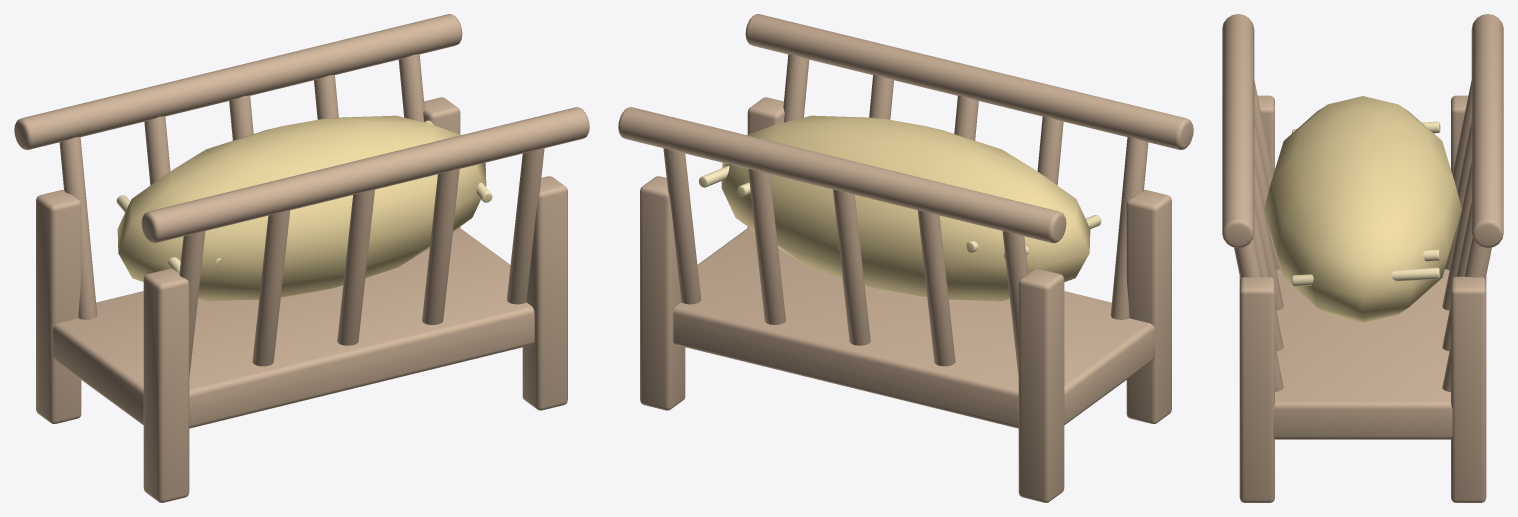
File: hay-full.glb
3 views of the same model, side by side, from view 1: azimuth 30°, elevation 25°; view 2: azimuth 150°, elevation 25°; view 3: azimuth 270°, elevation 25° (orthographic).
Parts seen in each view (by area): view 1: Rack bottom, Hay cushion, Top rail, Top rail.001, Rack leg, Rack leg.001, Rack leg.002, Slanted feeder stave.002, Slanted feeder stave.001, Slanted feeder stave.003, Slanted feeder stave.004, Slanted feeder stave.005 (+6 smaller); view 2: Rack bottom, Hay cushion, Top rail.001, Top rail, Rack leg.001, Rack leg, Rack leg.003, Slanted feeder stave.007, Slanted feeder stave.006, Slanted feeder stave.008, Slanted feeder stave.009, Slanted feeder stave (+6 smaller); view 3: Hay cushion, Rack bottom, Rack leg.002, Rack leg.003, Top rail, Top rail.001, Slanted feeder stave.002, Slanted feeder stave.007, Slanted feeder stave.004, Slanted feeder stave.009, Visible straw.008, Rack leg (+7 smaller).
Boxes of the visible parts, <box> form: Rack bottom: <box>53,227,534,428</box>; Hay cushion: <box>117,115,486,301</box>; Top rail: <box>141,107,589,243</box>; Top rail.001: <box>14,14,462,149</box>; Rack leg: <box>143,268,189,502</box>; Rack leg.001: <box>36,189,81,423</box>; Rack leg.002: <box>522,176,567,410</box>; Slanted feeder stave.002: <box>337,189,374,345</box>; Slanted feeder stave.001: <box>252,210,290,366</box>; Slanted feeder stave.003: <box>422,169,459,324</box>; Slanted feeder stave.004: <box>506,148,544,304</box>; Slanted feeder stave.005: <box>59,137,97,319</box>; Rack bottom: <box>673,227,1154,428</box>; Hay cushion: <box>721,115,1090,301</box>; Top rail.001: <box>618,107,1066,243</box>; Top rail: <box>745,14,1193,149</box>; Rack leg.001: <box>1018,268,1064,502</box>; Rack leg: <box>1126,189,1171,423</box>; Rack leg.003: <box>640,176,685,410</box>; Slanted feeder stave.007: <box>833,189,870,345</box>; Slanted feeder stave.006: <box>917,210,955,366</box>; Slanted feeder stave.008: <box>748,169,785,324</box>; Slanted feeder stave.009: <box>663,148,701,304</box>; Slanted feeder stave: <box>1110,137,1148,319</box>; Hay cushion: <box>1264,96,1461,322</box>; Rack bottom: <box>1273,269,1452,439</box>; Rack leg.002: <box>1239,276,1274,502</box>; Rack leg.003: <box>1451,276,1486,502</box>; Top rail: <box>1222,14,1254,248</box>; Top rail.001: <box>1471,14,1503,248</box>; Slanted feeder stave.002: <box>1254,162,1283,310</box>; Slanted feeder stave.007: <box>1442,162,1471,310</box>; Slanted feeder stave.004: <box>1234,238,1283,391</box>; Slanted feeder stave.009: <box>1442,238,1491,391</box>; Visible straw.008: <box>1292,267,1440,286</box>; Rack leg: <box>1239,95,1274,281</box>.
Size of the model in its own units: 1.54 by 1 by 0.88.
